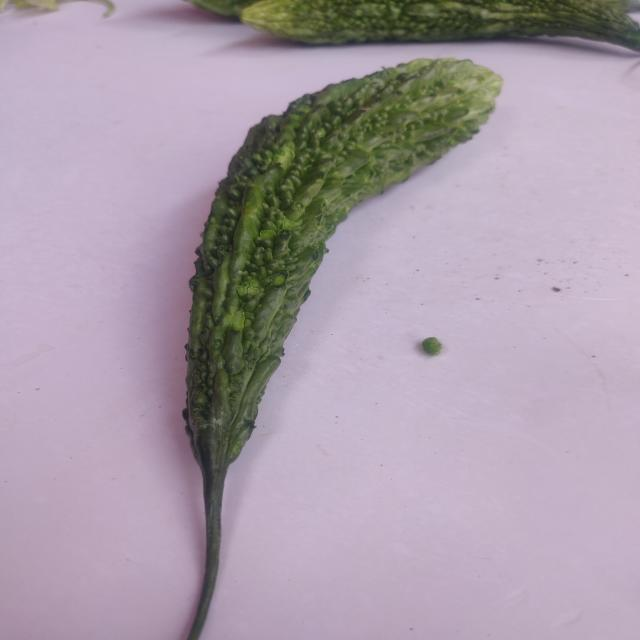Bitter Gourd: (154, 42, 529, 640)
